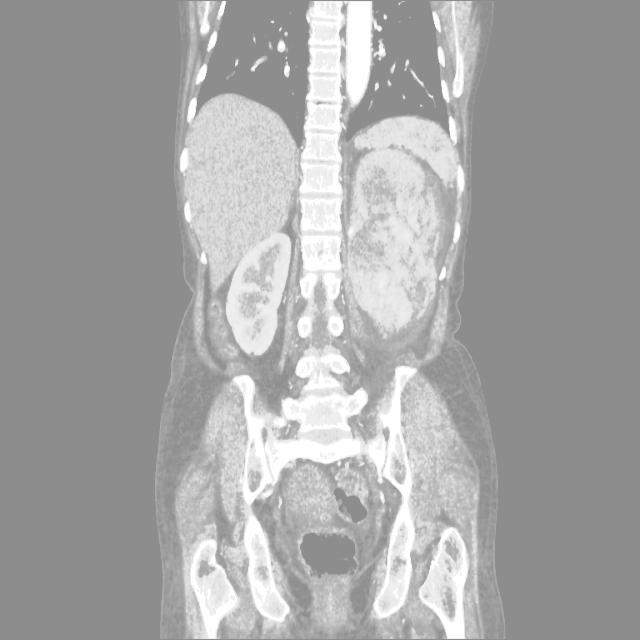TUMOR: (178, 230, 469, 389)
